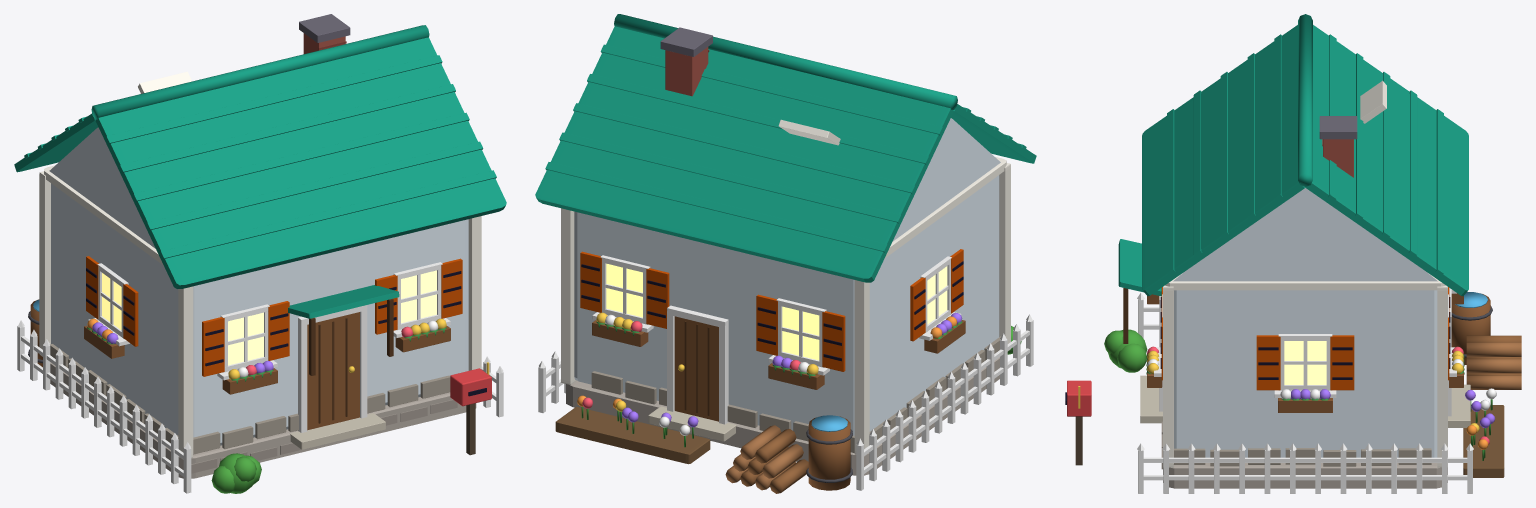
The model's file is domek4.glb.
3 views of the same model, side by side, from view 1: azimuth 30°, elevation 25°; view 2: azimuth 150°, elevation 25°; view 3: azimuth 270°, elevation 25° (orthographic). The views are drawn at different scales.
Parts seen in each view (by area): view 1: domek4; view 2: domek4; view 3: domek4.
Part boxes in pixels (x1,y1,x2,y2): domek4: (14, 14, 506, 493); domek4: (535, 14, 1036, 493); domek4: (1065, 14, 1521, 493).
Size of the model in its own units: 5.54 by 5.43 by 6.65.
Materials: 2 (2 with a texture image).
